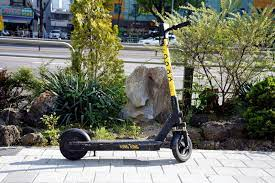kick_board: (59, 22, 192, 161)
kick_body: (93, 140, 160, 150)
kick_handler: (143, 21, 191, 39)
kick_neck: (160, 44, 182, 122)
kick_wheel: (60, 128, 87, 160), (170, 133, 193, 161)
